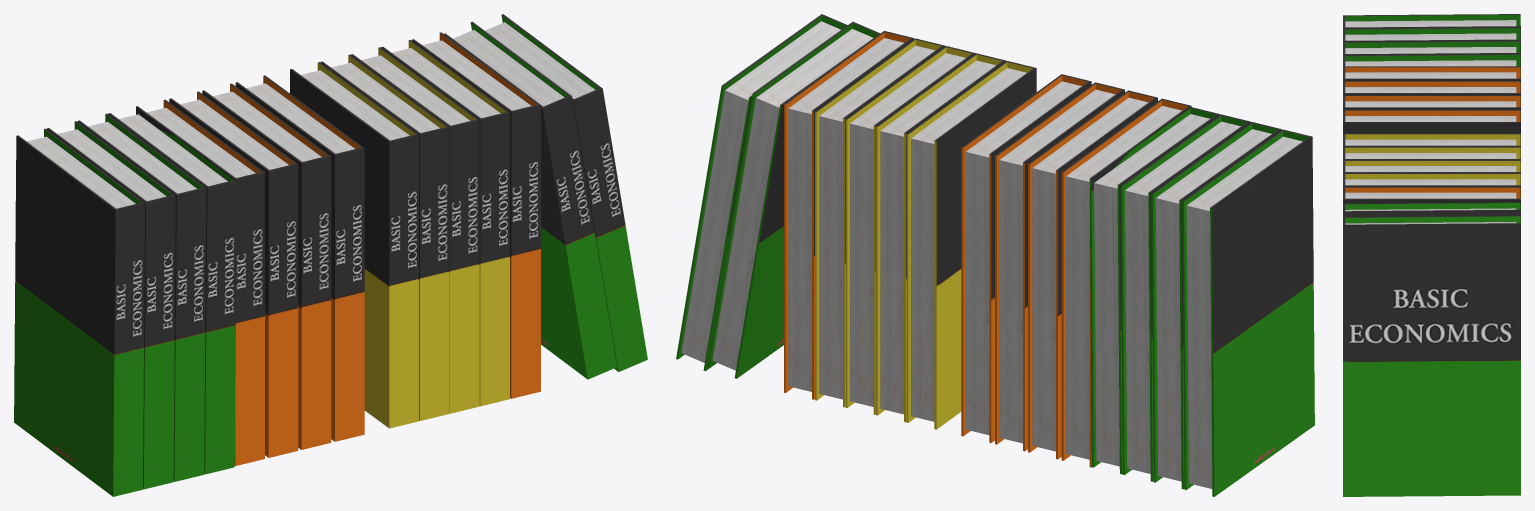
File: Books 2.FBX
The picture shows the model from 3 angles, left to right: view 1: azimuth 30°, elevation 25°; view 2: azimuth 150°, elevation 25°; view 3: azimuth 270°, elevation 25°; orthographic projection. The views are drawn at different scales.
Visible parts, largest first — view 1: Books 2; view 2: Books 2; view 3: Books 2.
Part boxes in pixels (x1=…): Books 2: x1=14, y1=14, x2=647, y2=496; Books 2: x1=676, y1=14, x2=1314, y2=496; Books 2: x1=1343, y1=14, x2=1520, y2=496.
Bounding box in the file's own units: 47.16 × 24.5 × 15.21.
Materials: 1 (1 with a texture image).
